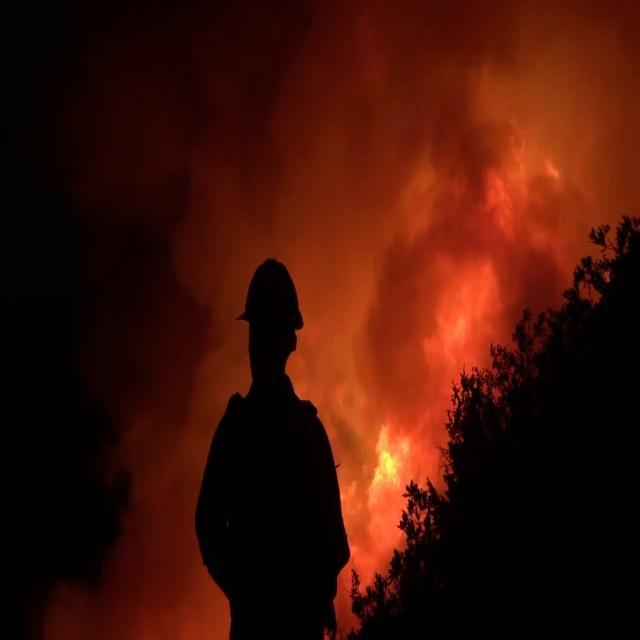Fire: (347, 401, 418, 535)
